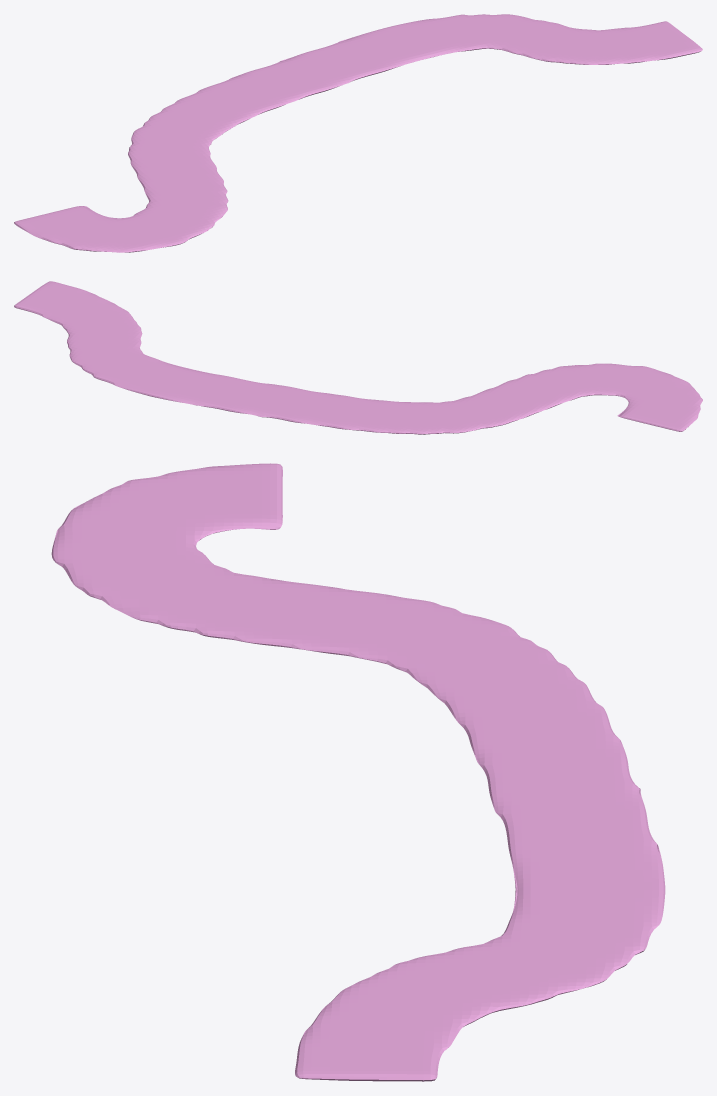
File: road_2.fbx
3 views of the same model, one above another, from view 1: azimuth 30°, elevation 25°; view 2: azimuth 150°, elevation 25°; view 3: azimuth 270°, elevation 25° (orthographic). The views are drawn at different scales.
Parts seen in each view (by area): view 1: Road; view 2: Road; view 3: Road.
Part boxes in pixels (x1=…): Road: x1=14, y1=14, x2=702, y2=252; Road: x1=14, y1=281, x2=702, y2=434; Road: x1=51, y1=463, x2=665, y2=1081.
Size of the model in its own units: 3814 by 17.27 by 1607.
